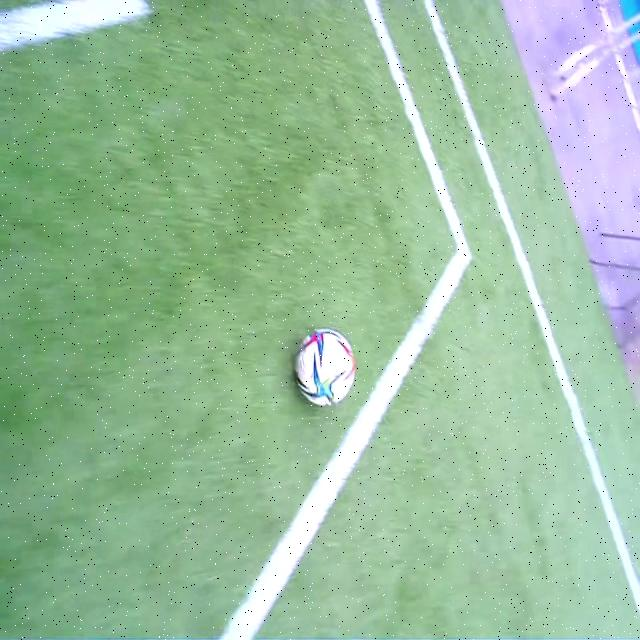ball: (298, 327, 355, 407)
